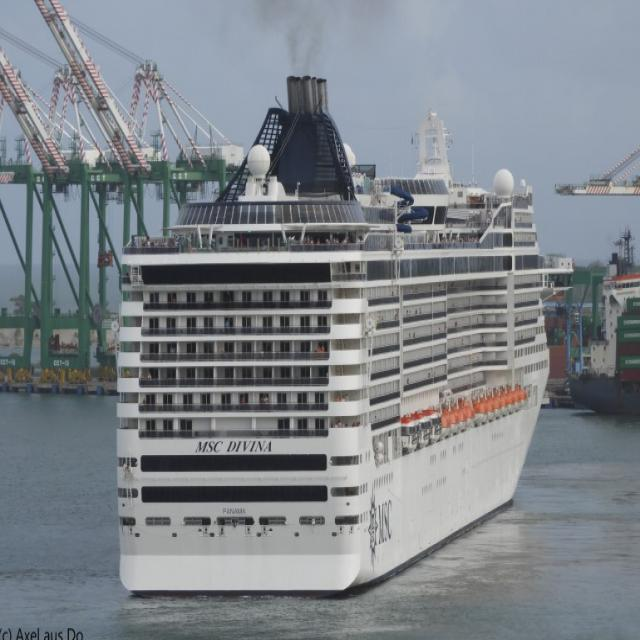cruises: (104, 63, 555, 597)
